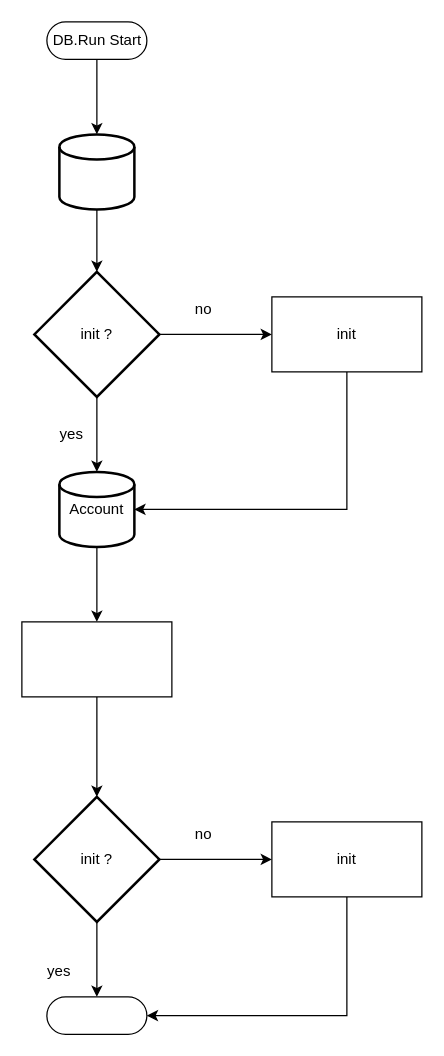
The diagram is 444 pixels wide and 1056 high, and some of its shapes have lost their labels. The shapes that lost their labels are listed below. From the top down, each one's centre as x and y in pixels, then its label:
At pixel 96 171: "Server List".
At pixel 96 659: "set hoster.ServerList".
At pixel 96 1015: "DB.Run End".
